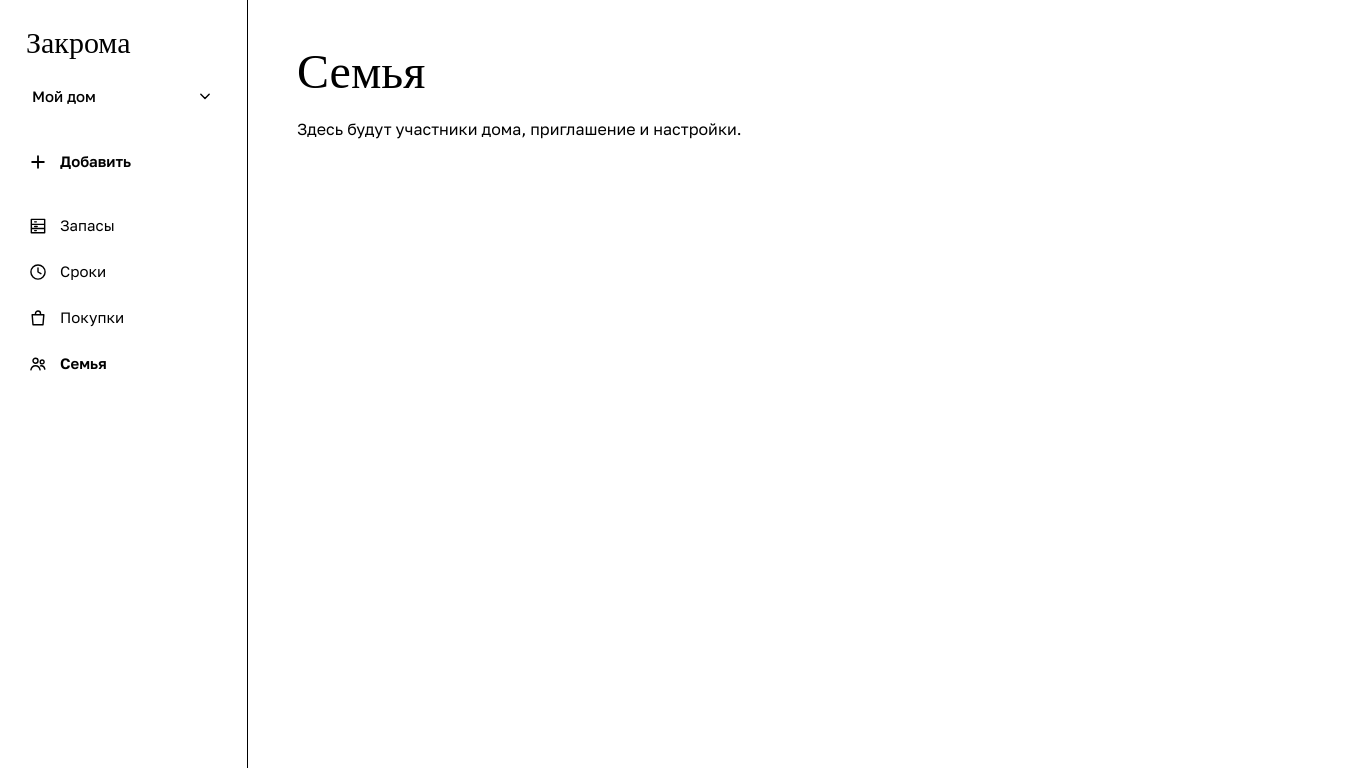
app shell (AC-3) › opens «Сроки» and marks it as current
Click the link "Сроки": (67, 272) [28, 262, 106, 282]
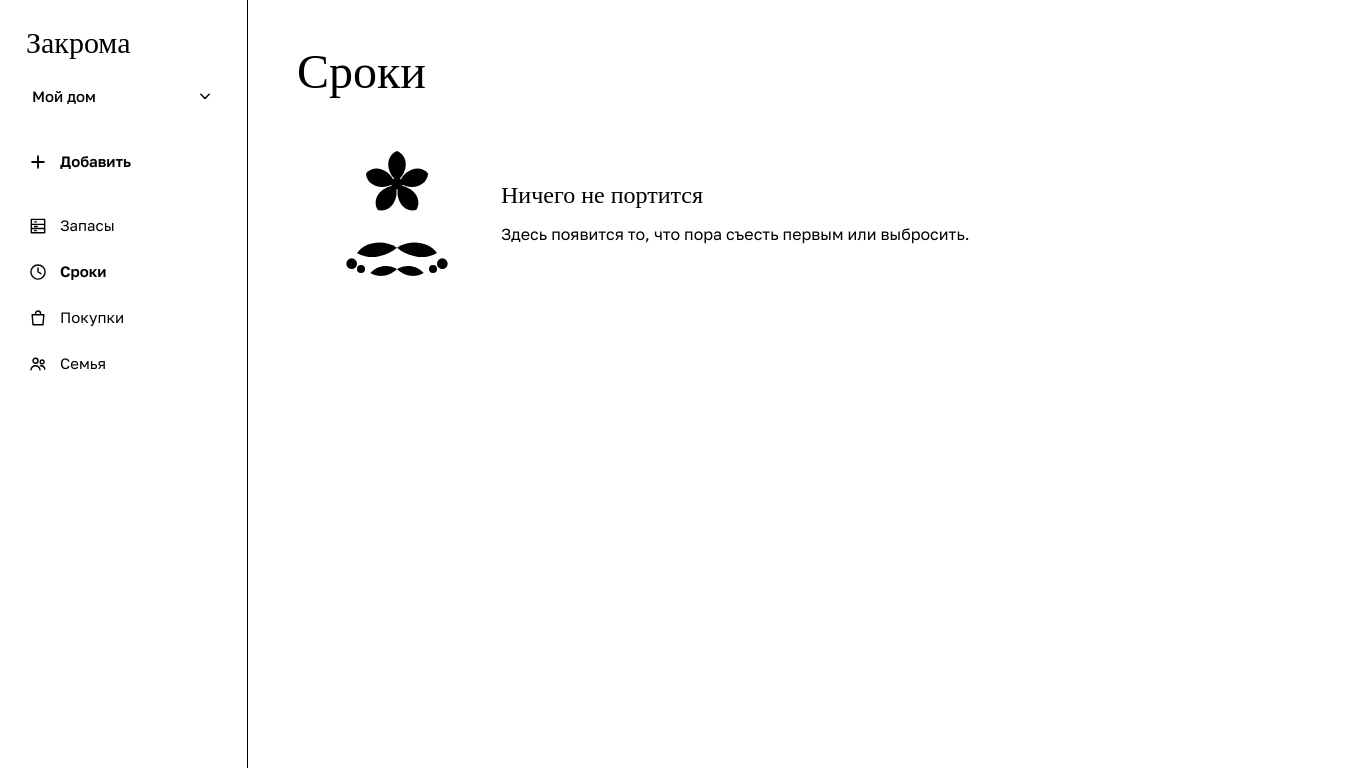
Expected: the heading "Сроки" is shown, [297, 45, 426, 98]
